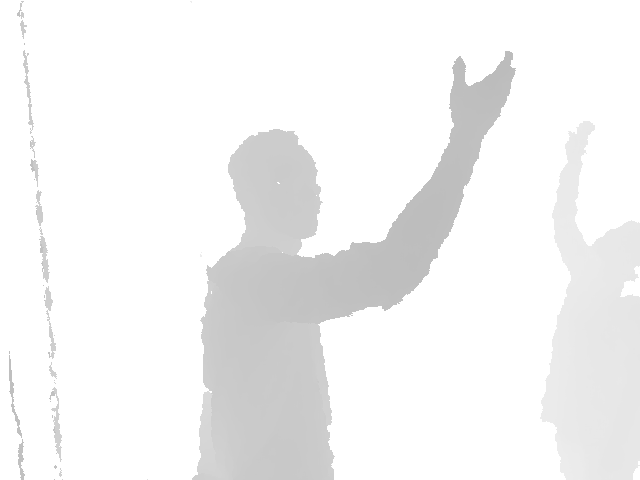hand: (448, 48, 516, 133), (564, 121, 596, 157)
head: (227, 129, 321, 240), (587, 219, 640, 272)
person: (189, 48, 517, 480), (540, 121, 640, 480)
